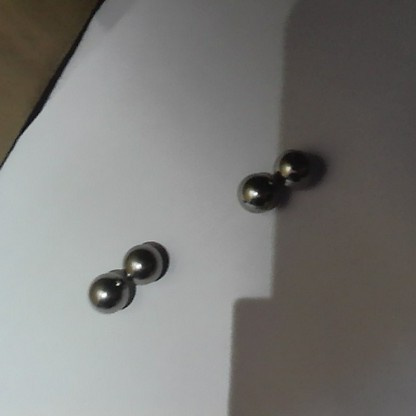ironball: (85, 269, 132, 316), (119, 243, 170, 286), (270, 146, 320, 189), (236, 168, 281, 215)
